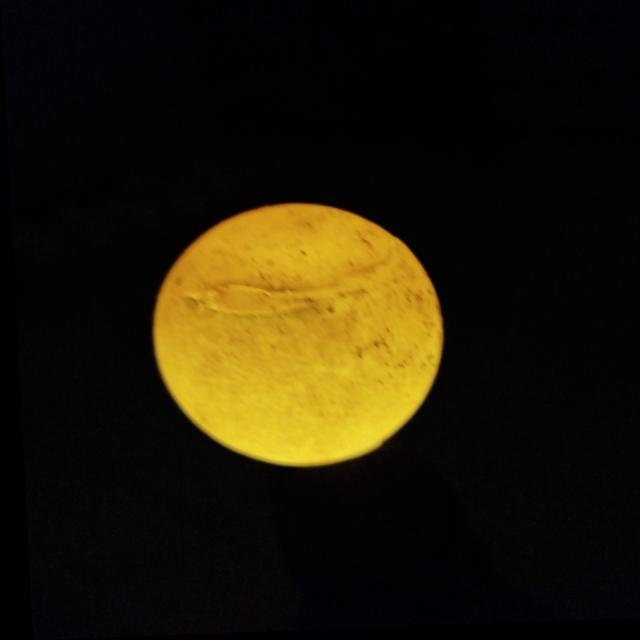Rachadura: (178, 238, 409, 320)
